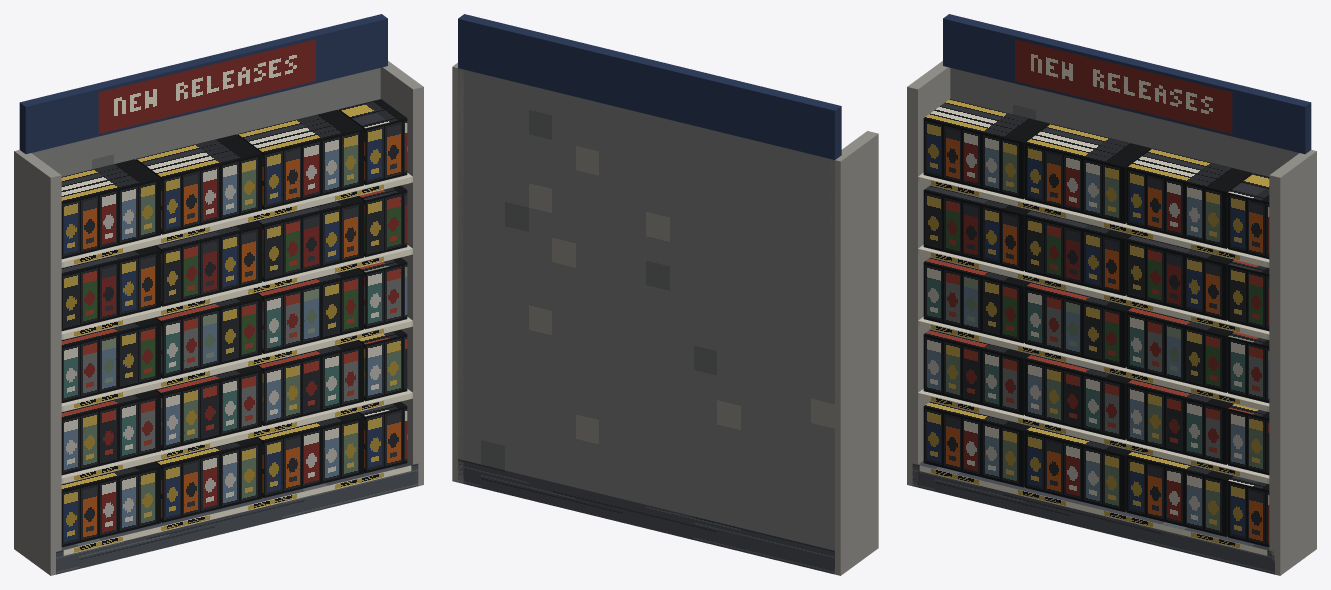
File: COM_GameWallShelf.glb
3 renders of one model, left to right at view 1: azimuth 30°, elevation 25°; view 2: azimuth 150°, elevation 25°; view 3: azimuth 330°, elevation 25°, orthographic. The views are drawn at different scales.
Parts seen in each view (by area): view 1: COM_GameWallShelf_Mesh; view 2: COM_GameWallShelf_Mesh; view 3: COM_GameWallShelf_Mesh.
Part boxes in pixels (left/top/right/bottom): COM_GameWallShelf_Mesh: left=14, top=14, right=423, bottom=575; COM_GameWallShelf_Mesh: left=452, top=14, right=878, bottom=575; COM_GameWallShelf_Mesh: left=907, top=14, right=1316, bottom=575.
Size of what is drawn, in the model's own units: 2.06 by 2.35 by 0.351.
Materials: 1 (1 with a texture image).
